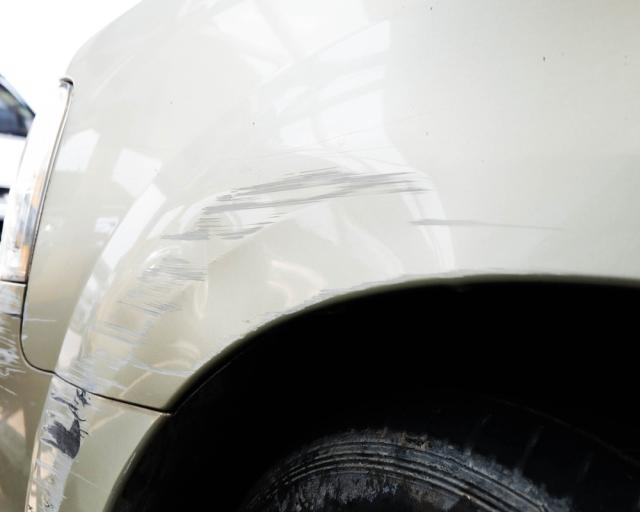scratch: (55, 163, 565, 403), (32, 379, 100, 512), (0, 286, 24, 395)
